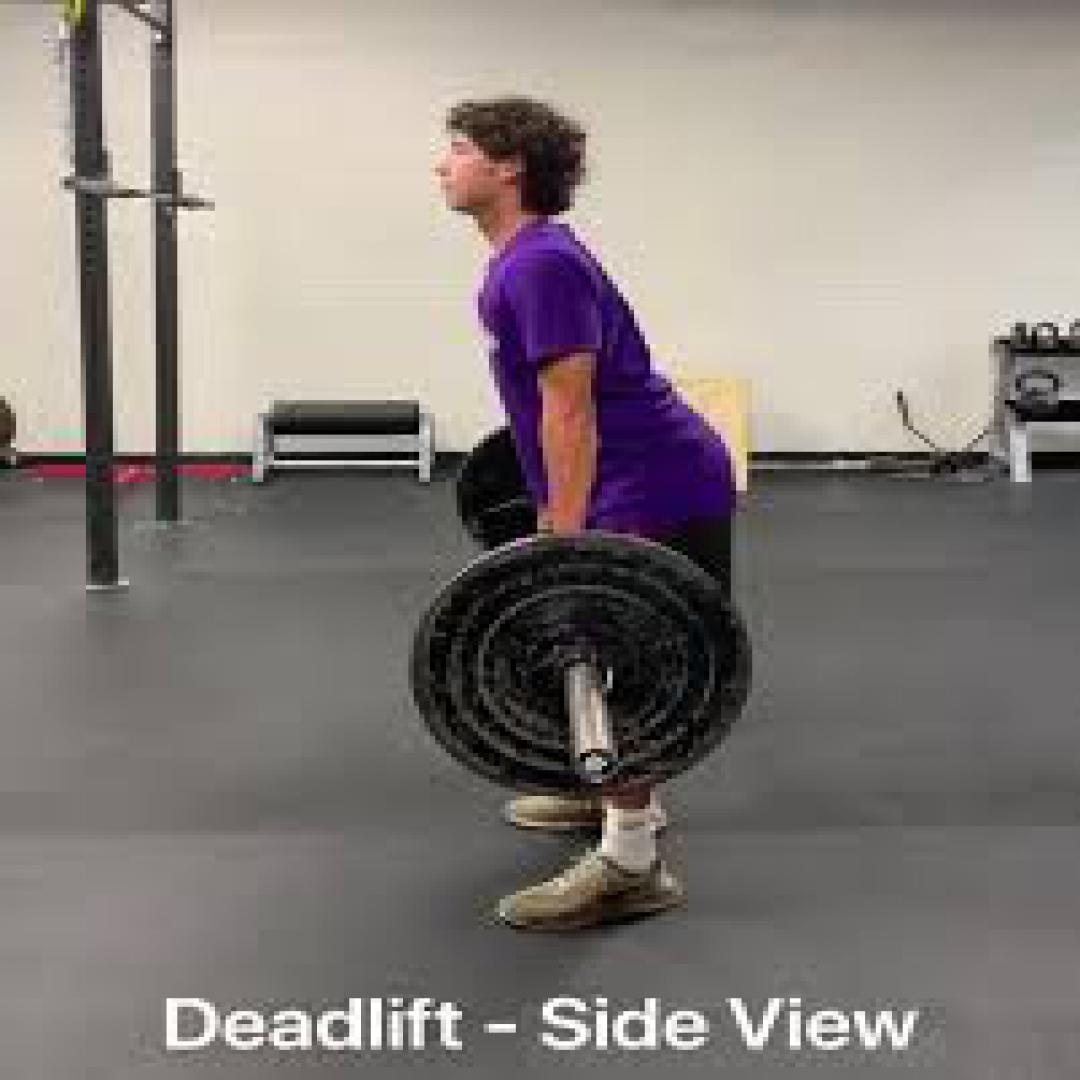Bar: (570, 740, 623, 787)
Barbell: (408, 538, 747, 796)
